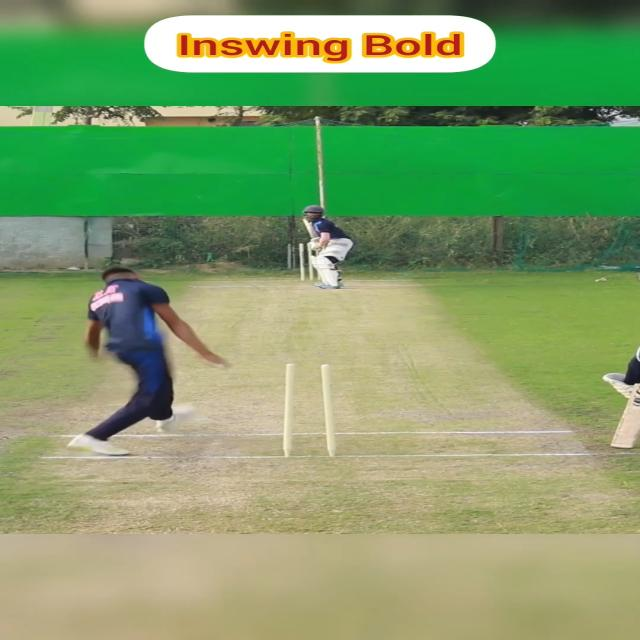stump: (282, 362, 340, 457), (297, 242, 323, 282)
